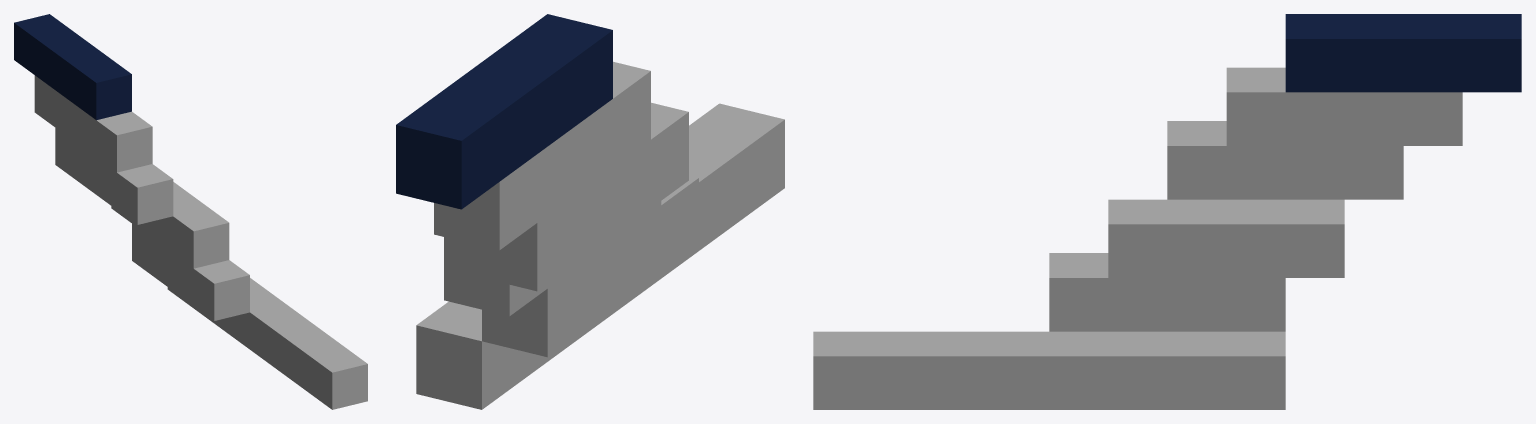
The model's file is Wing-15-InterstellarRunner_Fin_R.obj.
The picture shows the model from 3 angles, left to right: view 1: azimuth 30°, elevation 25°; view 2: azimuth 150°, elevation 25°; view 3: azimuth 270°, elevation 25°; orthographic projection. The views are drawn at different scales.
Visible parts, largest first — view 1: InterstellarRunner_Fin_R; view 2: InterstellarRunner_Fin_R; view 3: InterstellarRunner_Fin_R.
Boxes of the visible parts, bbox=[...] form: InterstellarRunner_Fin_R: bbox=[14, 14, 367, 409]; InterstellarRunner_Fin_R: bbox=[396, 14, 784, 409]; InterstellarRunner_Fin_R: bbox=[813, 14, 1521, 409].
Bounding box in the file's own units: 0.3 × 0.6 × 1.2.
1 material, 1 textured.
